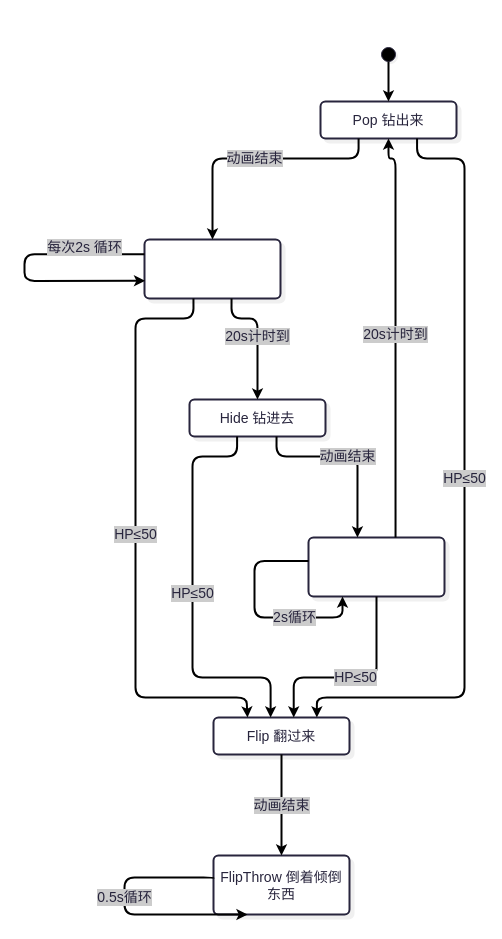
This 502x939 diagram has some shape labels left out. Each missing label, with the centre of its shape:
"HideThrow 躲着丢东西" belongs at (378,568).
"Throw 头在外丢东西 Walk一步" belongs at (214,270).
